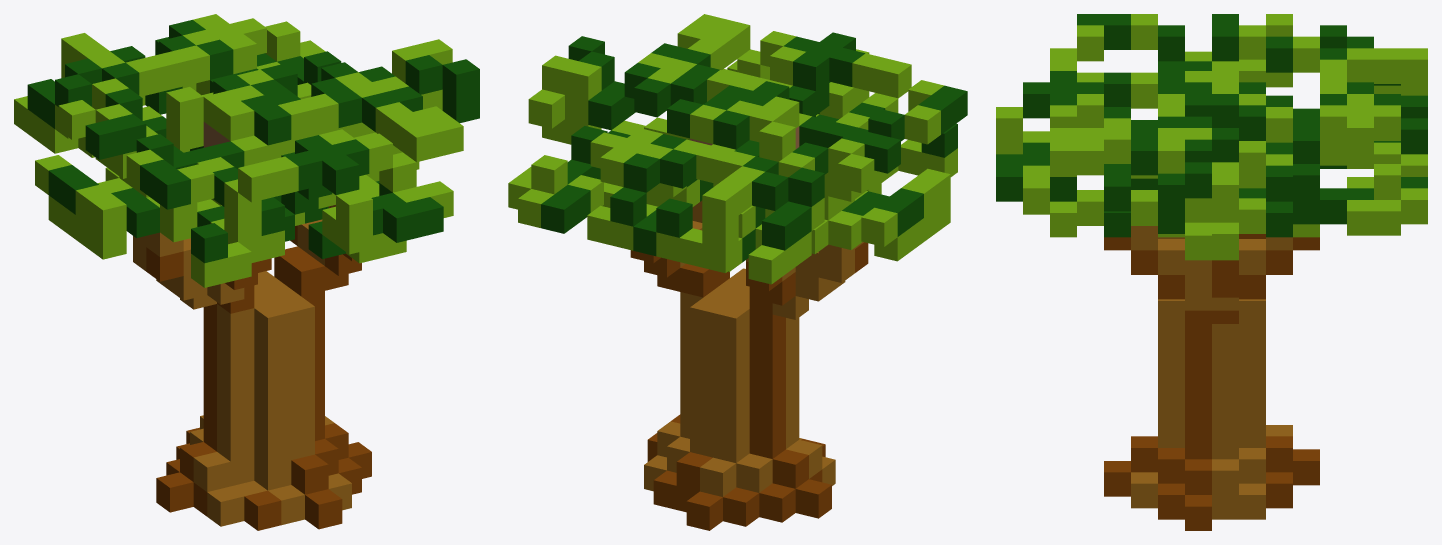
The model's file is Drago_Adriana_Sofia_Espitia_Contreras_fase_3.obj.
3 renders of one model, left to right at view 1: azimuth 30°, elevation 25°; view 2: azimuth 150°, elevation 25°; view 3: azimuth 270°, elevation 25°, orthographic. The views are drawn at different scales.
Visible parts, largest first — view 1: Drago_Adriana_Sofia_Espitia_Contreras_fase_3; view 2: Drago_Adriana_Sofia_Espitia_Contreras_fase_3; view 3: Drago_Adriana_Sofia_Espitia_Contreras_fase_3.
Boxes of the visible parts, <box> form: Drago_Adriana_Sofia_Espitia_Contreras_fase_3: <box>14,14,479,530</box>; Drago_Adriana_Sofia_Espitia_Contreras_fase_3: <box>508,14,967,530</box>; Drago_Adriana_Sofia_Espitia_Contreras_fase_3: <box>996,14,1427,530</box>.
Size of the model in its own units: 16 by 16 by 16.
